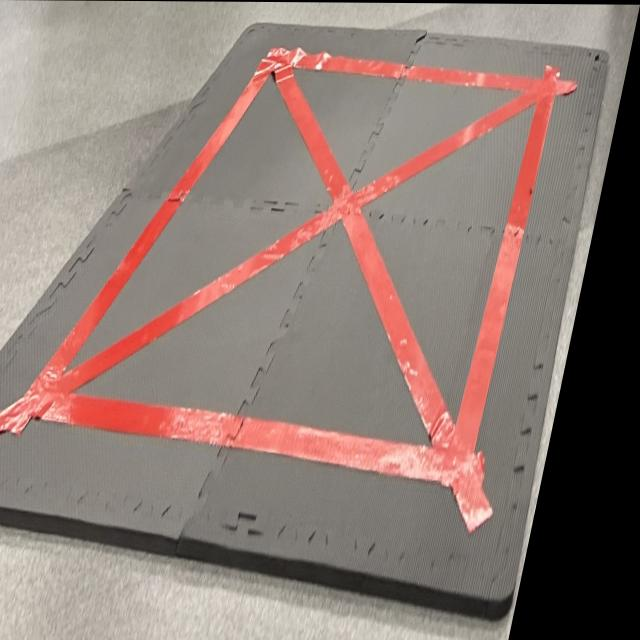landingPads: (0, 23, 627, 609)
